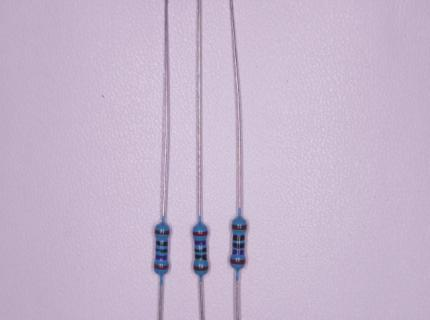Black band: (233, 242, 245, 248), (233, 235, 245, 241), (195, 254, 207, 260), (195, 247, 206, 253), (156, 248, 168, 253), (156, 241, 167, 246)
Brown band: (193, 265, 208, 271), (231, 224, 246, 230), (154, 230, 169, 235)
Red band: (230, 258, 245, 264), (154, 264, 169, 269), (193, 231, 207, 236)
Violet band: (232, 249, 244, 255), (156, 254, 167, 260), (195, 240, 207, 245)
